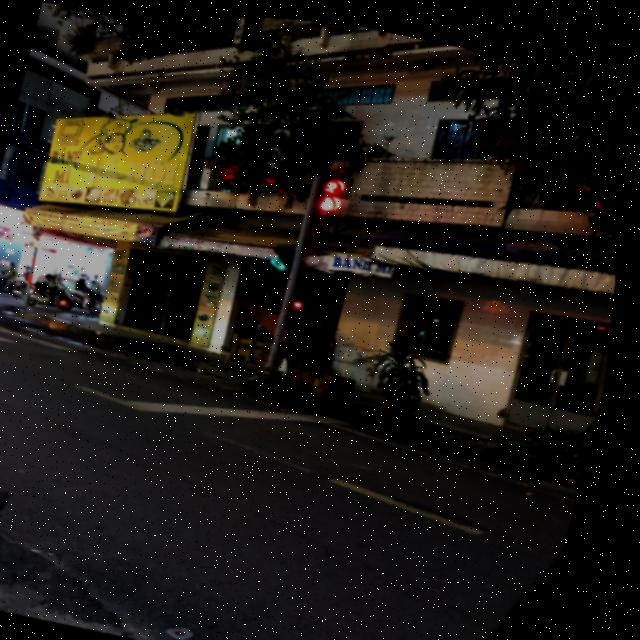Red: (299, 181, 349, 250), (285, 287, 315, 325)
